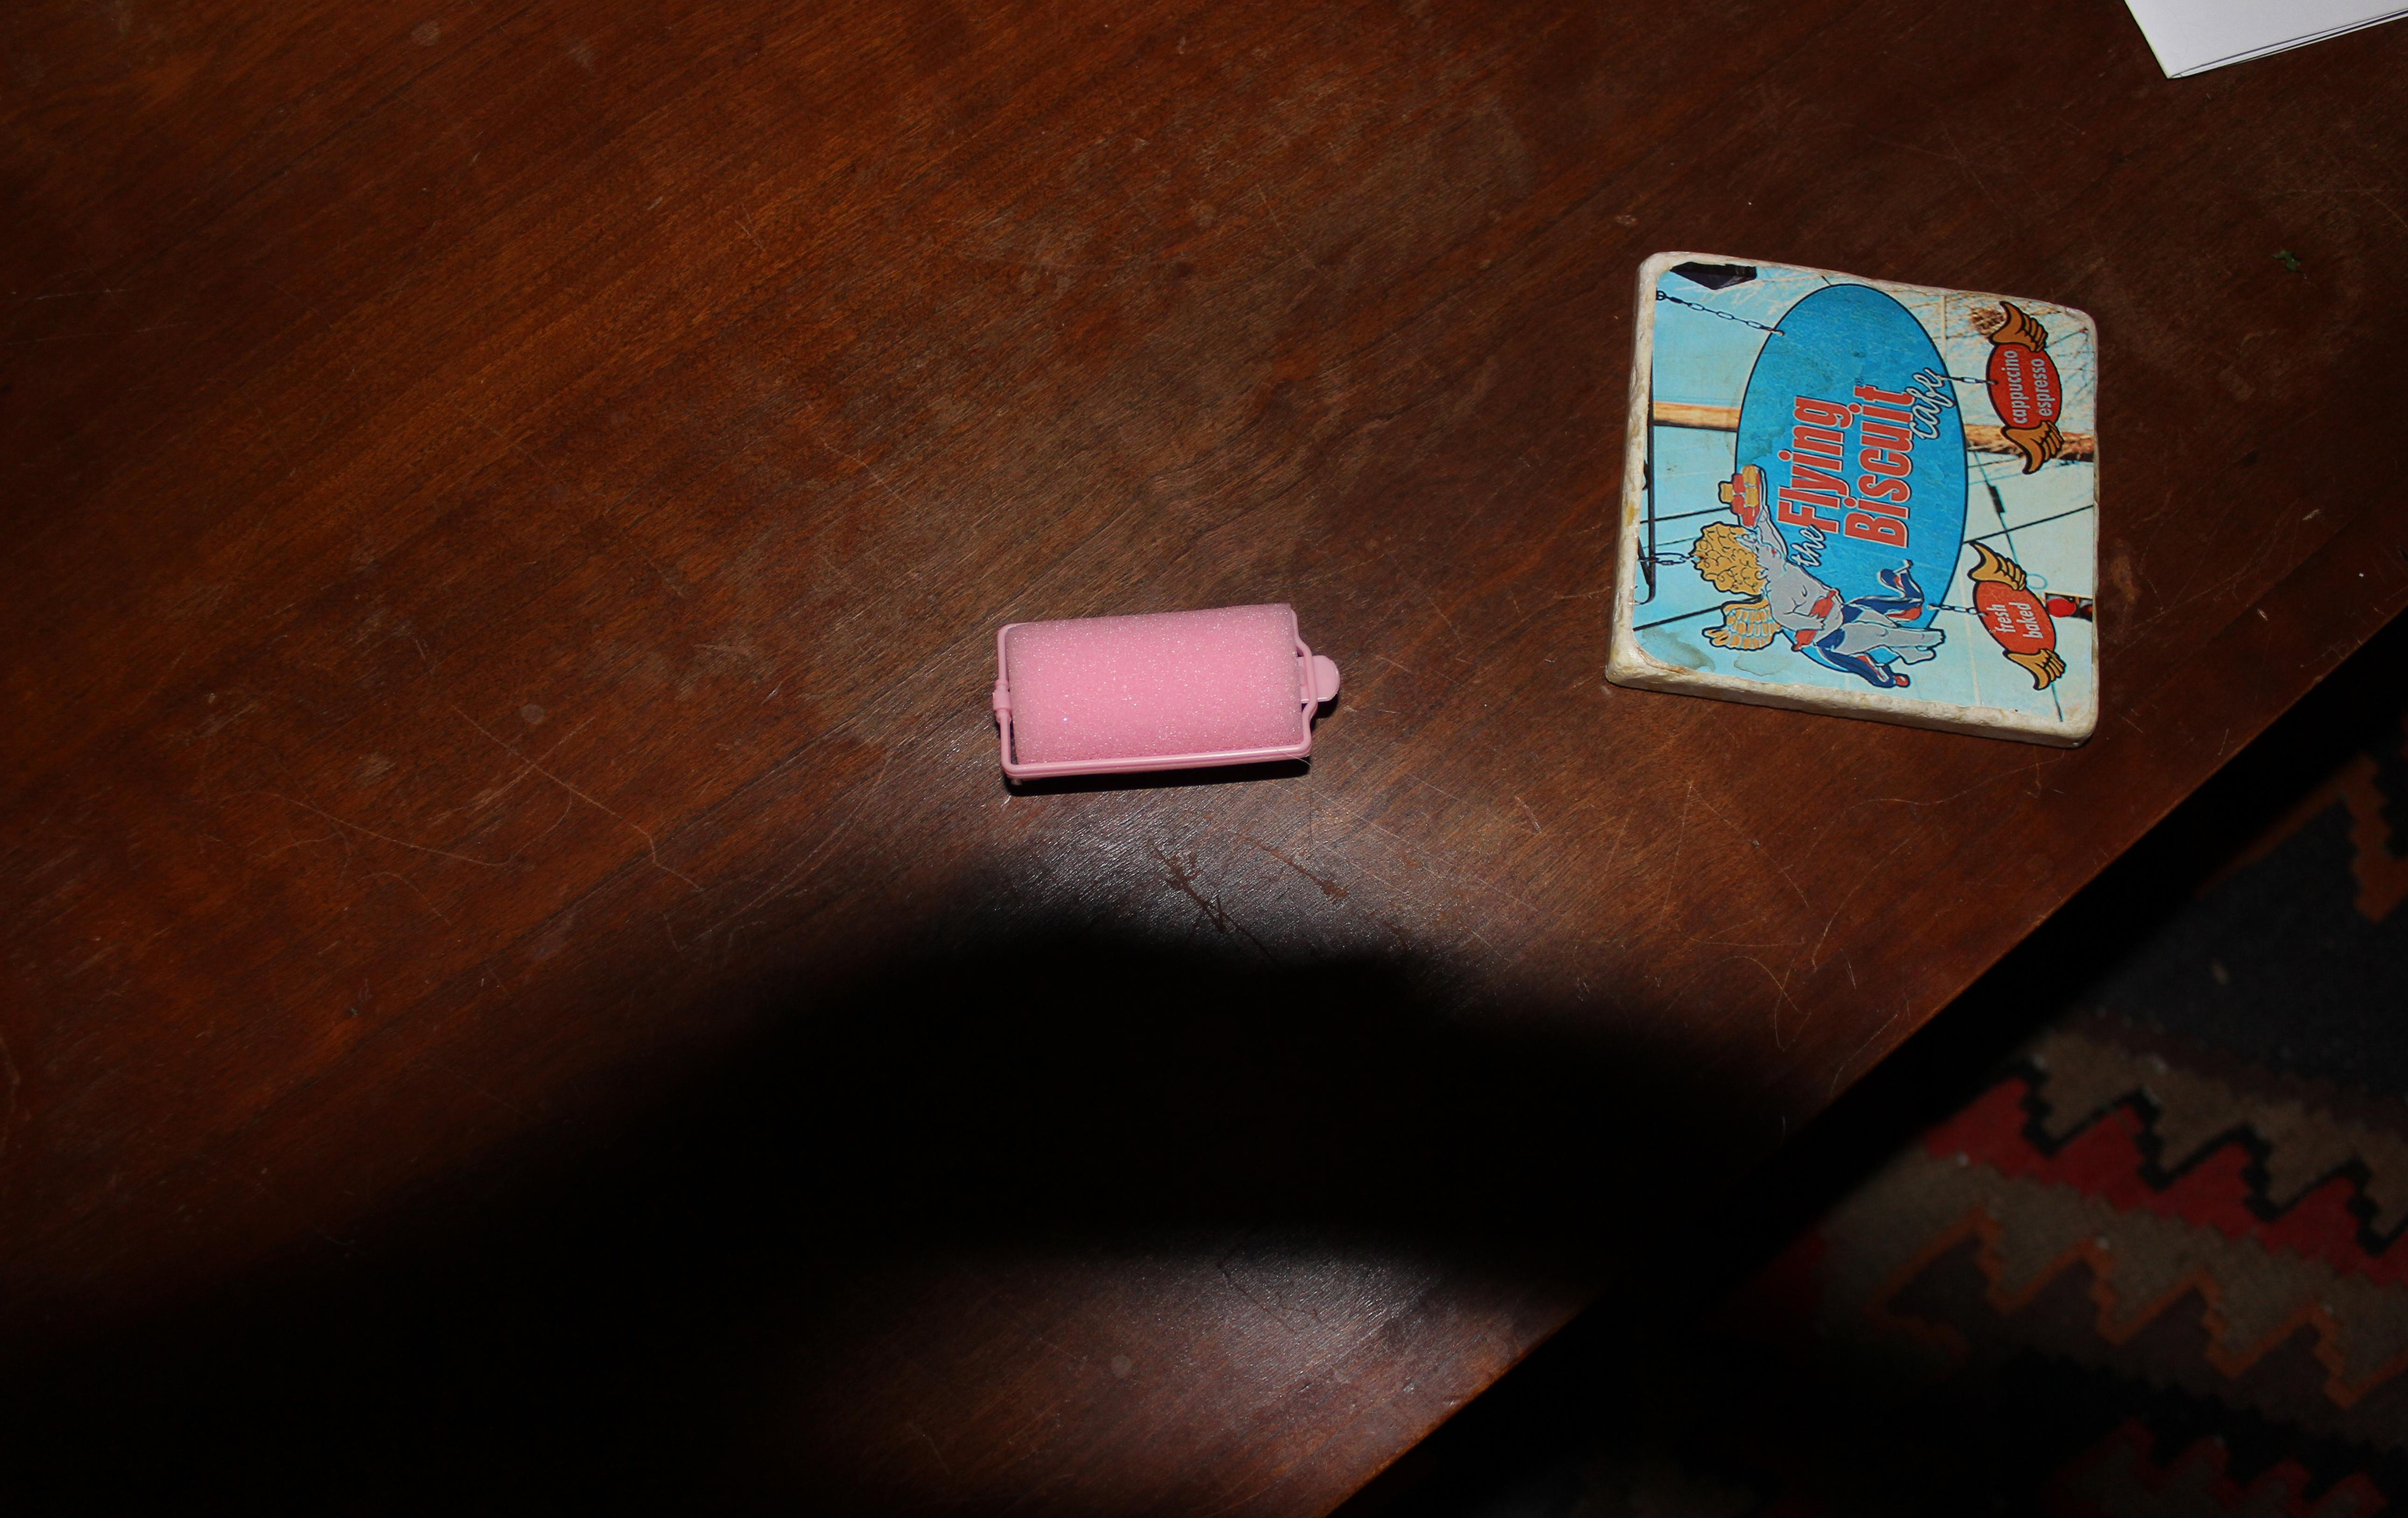hairRoller: (927, 563, 1375, 829)
